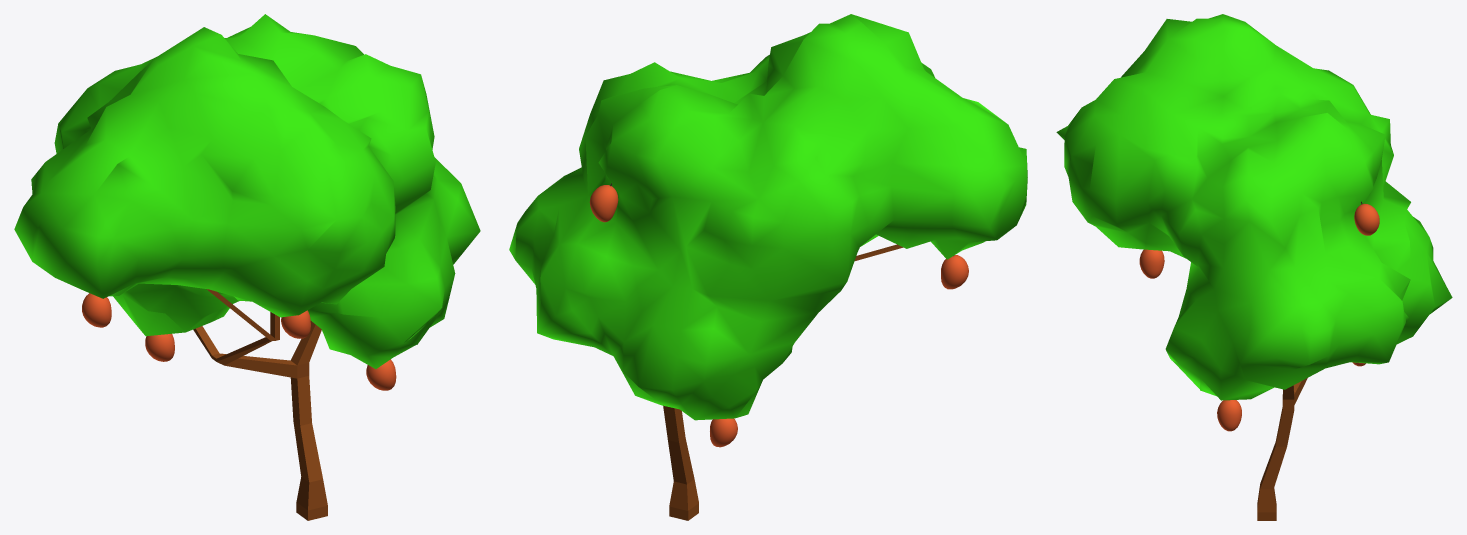
File: SM_MangoTree_001.fbx
The picture shows the model from 3 angles, left to right: view 1: azimuth 30°, elevation 25°; view 2: azimuth 150°, elevation 25°; view 3: azimuth 270°, elevation 25°; orthographic projection. The views are drawn at different scales.
Parts seen in each view (by area): view 1: MangoTree_01; view 2: MangoTree_01; view 3: MangoTree_01.
Boxes of the visible parts, box(x1,y1,x2,y2) form: MangoTree_01: box(14, 14, 480, 520); MangoTree_01: box(509, 14, 1027, 520); MangoTree_01: box(1056, 14, 1452, 520).
Bounding box in the file's own units: 261 × 278 × 226.
